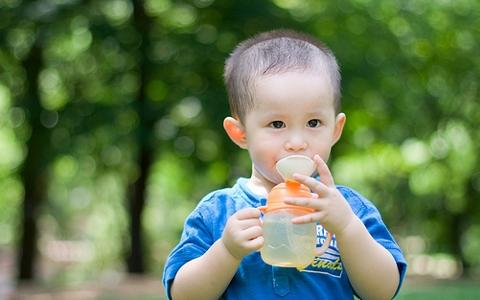person: (162, 32, 408, 300)
